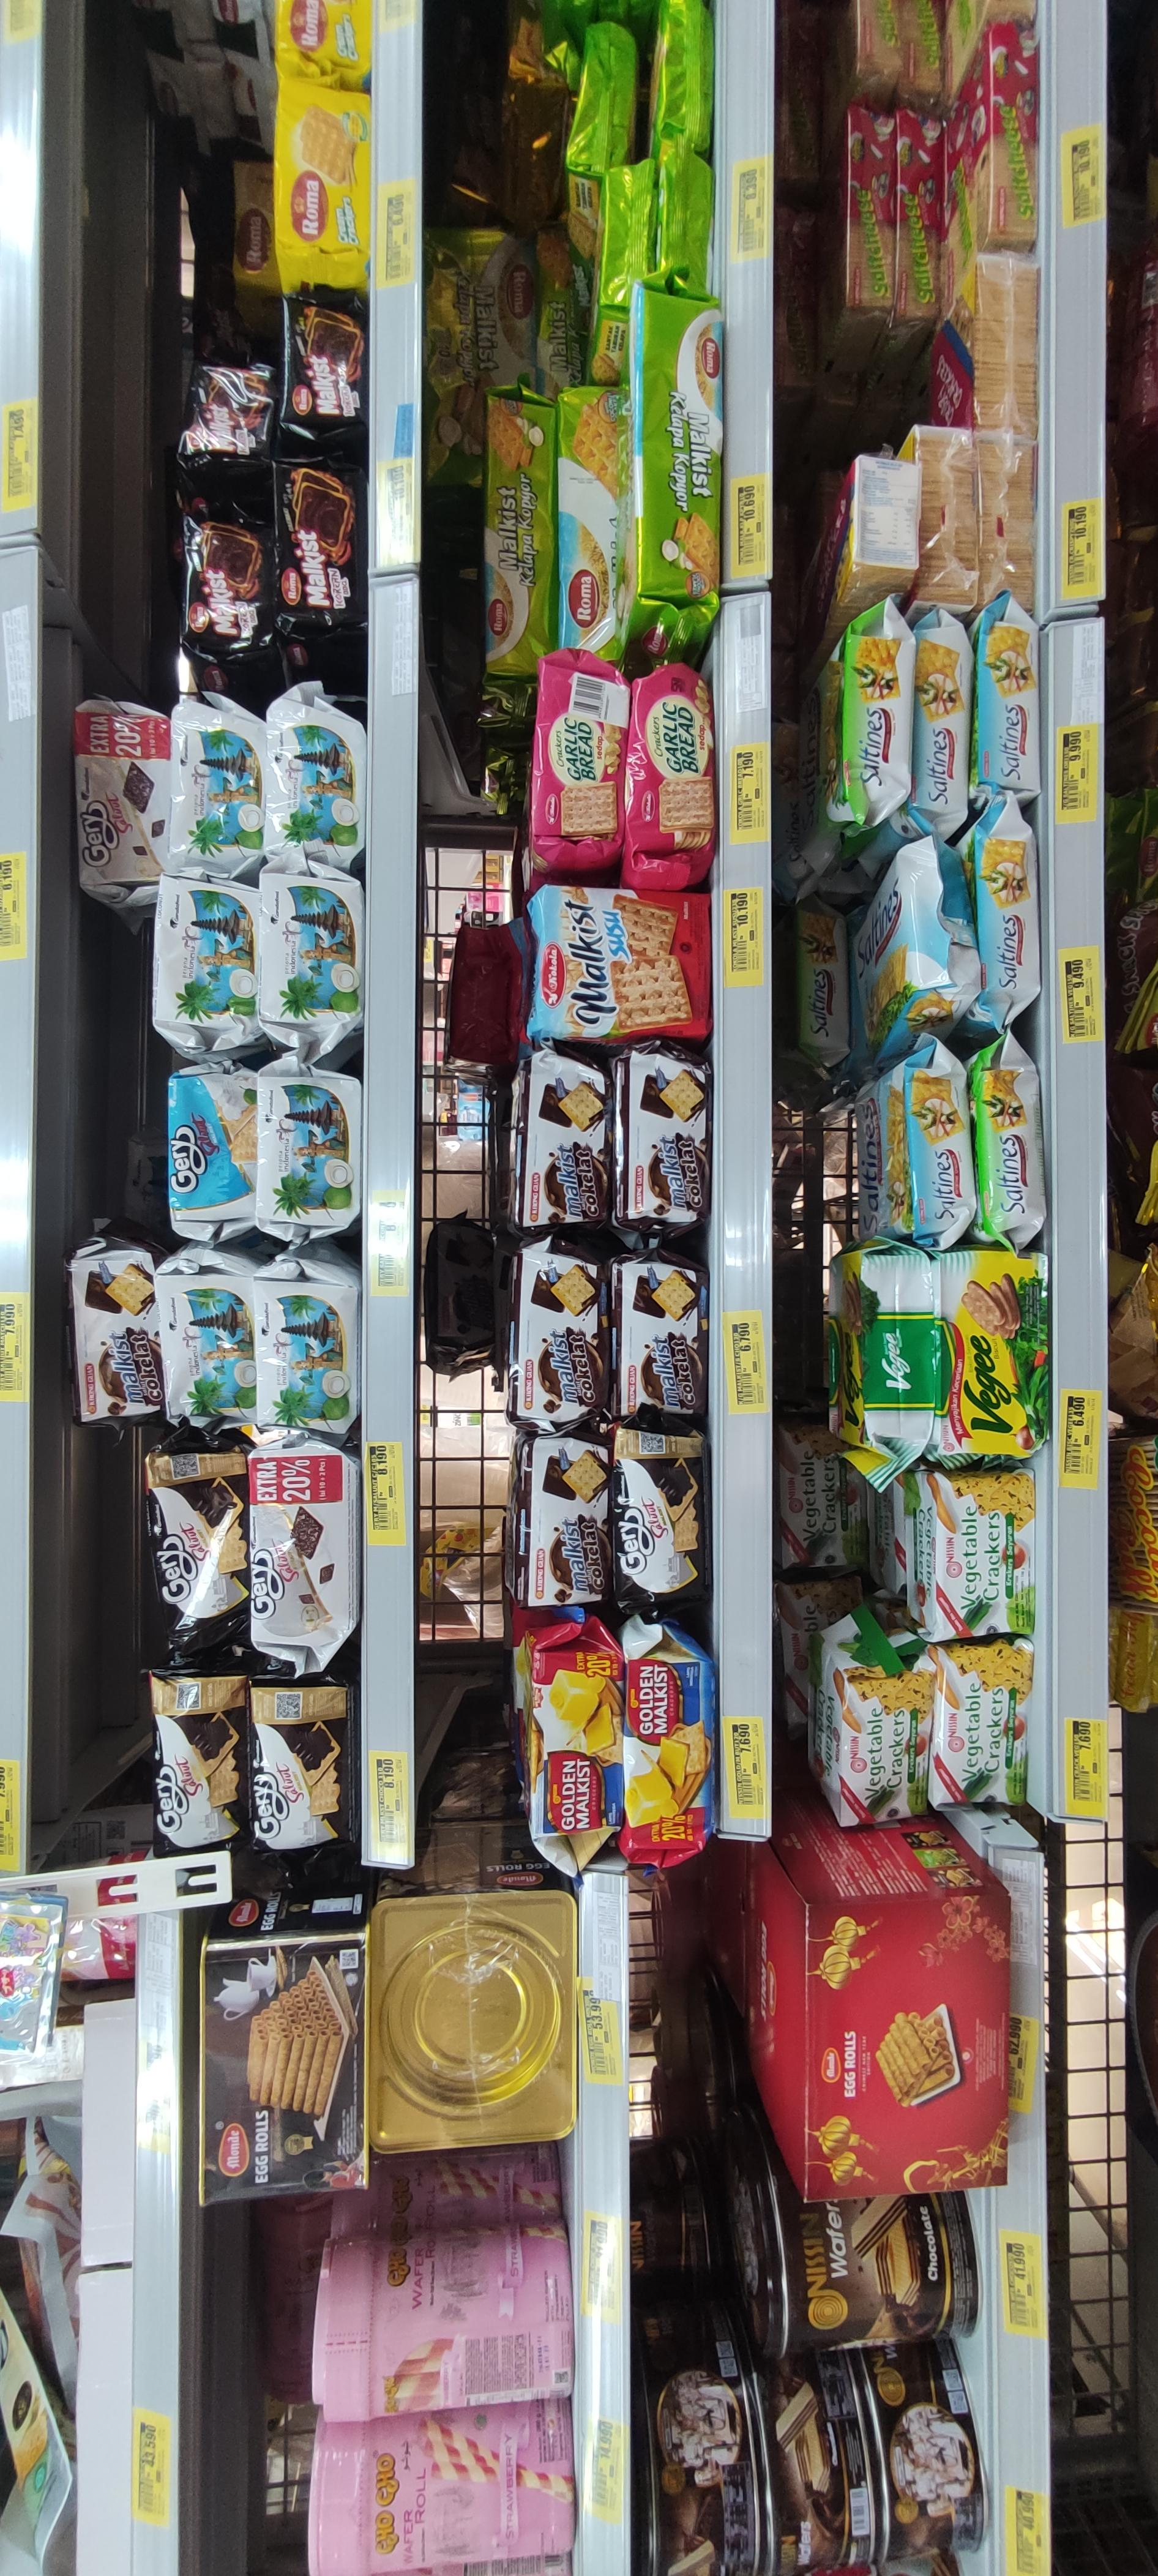90101225202100: (145, 1449, 250, 1666), (248, 1682, 353, 1853), (149, 1676, 248, 1855), (614, 1428, 711, 1605)
90101225209100: (151, 874, 258, 1028), (258, 872, 366, 1023), (258, 1280, 361, 1434), (255, 1076, 361, 1224), (266, 711, 366, 861), (171, 716, 264, 866), (159, 1275, 256, 1418), (168, 1073, 258, 1219)
90101225218101: (250, 1447, 358, 1640), (72, 710, 171, 882)
ChoChoWaferRoll: (309, 2405, 575, 2576)
KhongGuanMalkistSalutCokelat: (516, 1434, 611, 1608), (66, 1255, 164, 1423), (519, 1050, 613, 1226), (514, 1250, 611, 1419), (614, 1051, 711, 1219), (614, 1262, 708, 1419)
KhongGuanSaltcheeseCrackers: (987, 16, 1038, 235), (846, 105, 895, 310), (895, 104, 944, 309)
KokolaCrackersGarlicBread: (626, 674, 716, 856), (537, 664, 627, 839)
KokolaMalkistSusu: (526, 884, 713, 1038)
MondeEggRolls: (202, 1932, 368, 2201)
MondeEggRollsChineseNewYearPackage: (805, 1896, 1012, 2200)
NissinGoldenMalkist: (529, 1649, 624, 1835), (624, 1658, 713, 1850)
NissinVegeeBiscuit: (933, 1252, 1051, 1456), (866, 1255, 931, 1437)
NissinVegetableCrackers: (931, 1469, 1035, 1641), (931, 1643, 1035, 1802), (841, 1672, 931, 1829)
RomaMalkistCreamCrackers: (274, 85, 371, 253)
RomaMalkistKelapaKopyor: (634, 287, 723, 600), (483, 394, 555, 674)
RomaMalkistKoreanBBQ: (271, 457, 366, 613), (182, 498, 273, 647), (279, 292, 368, 427)
SaltinesOriginalCrackers: (910, 629, 972, 807), (905, 1066, 969, 1230), (976, 831, 1040, 992), (977, 623, 1040, 785)
SaltinesVegetableCrackers: (974, 1066, 1043, 1230), (843, 632, 913, 792), (795, 912, 848, 1053)
